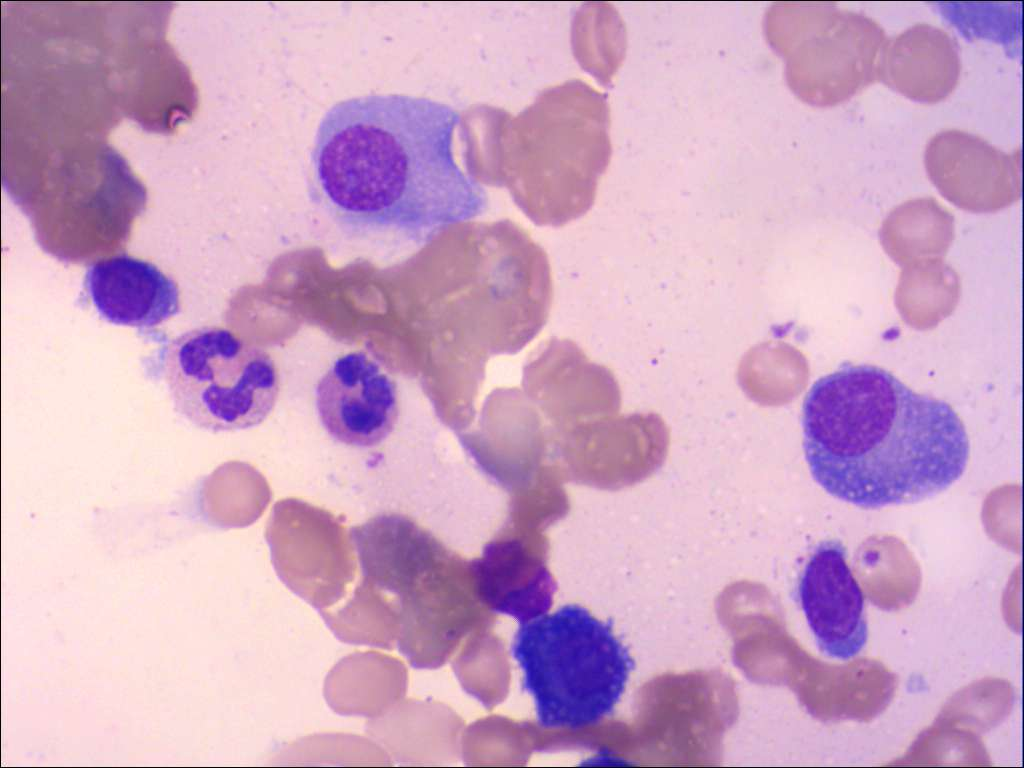32: (785, 534, 871, 664), (74, 250, 186, 336)
51: (304, 90, 495, 246), (798, 356, 973, 515), (503, 601, 640, 732)
6: (161, 322, 285, 435), (313, 346, 402, 453)
x: (467, 535, 563, 627)
